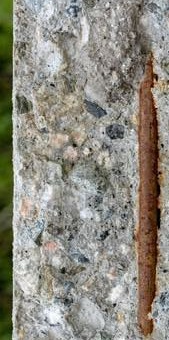Exposed reinforcement: (137, 50, 158, 335)
Spalling: (12, 1, 169, 340)
